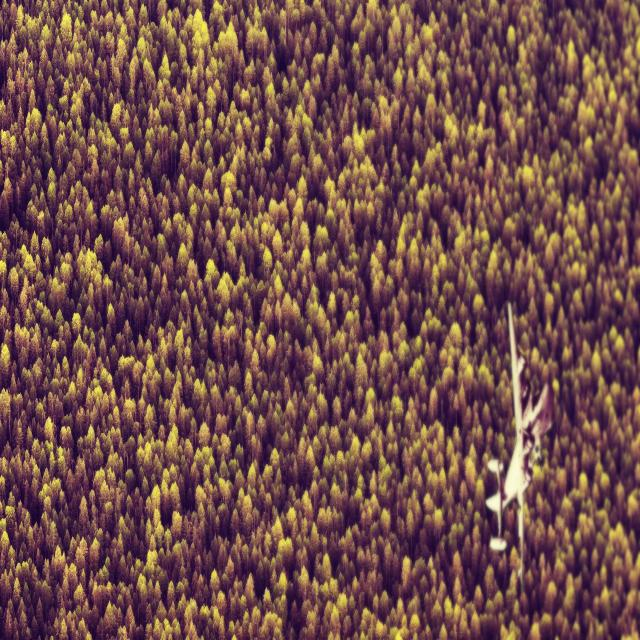airplane: (485, 300, 553, 592)
